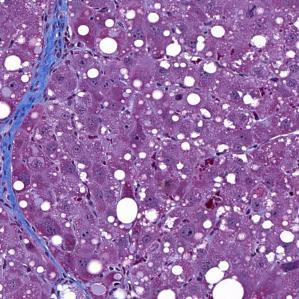fibrosis: (29, 15, 73, 108)
